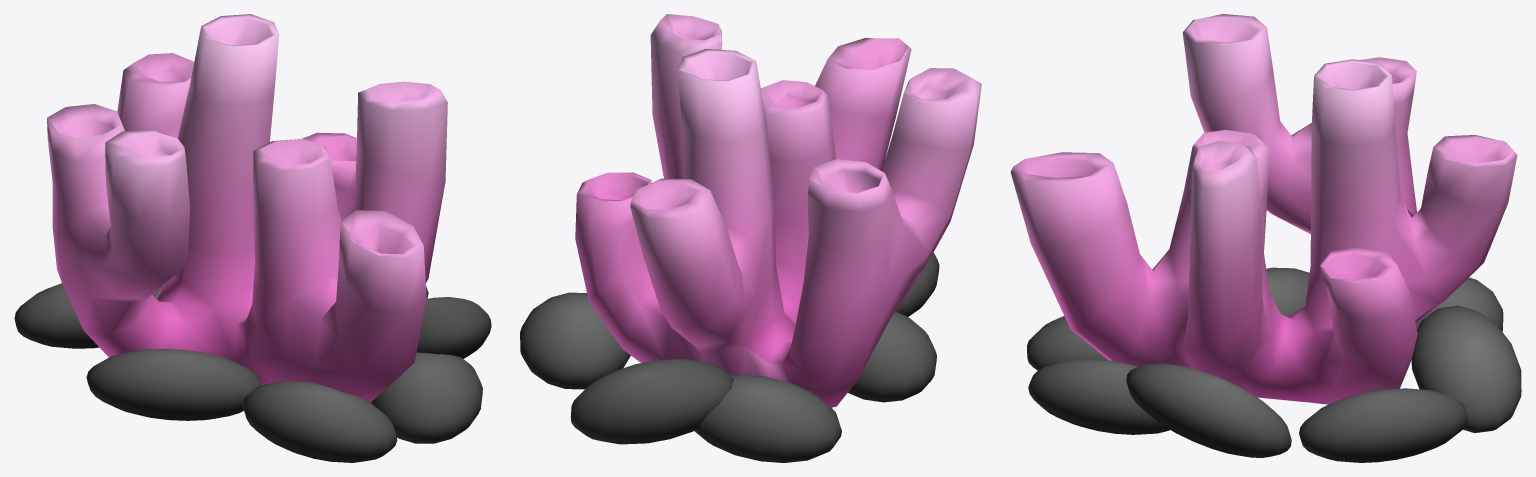
The model's file is Coral1.fbx.
3 renders of one model, left to right at view 1: azimuth 30°, elevation 25°; view 2: azimuth 150°, elevation 25°; view 3: azimuth 270°, elevation 25°, orthographic.
Visible parts, largest first — view 1: Coral, Piedras de coral; view 2: Coral, Piedras de coral; view 3: Coral, Piedras de coral.
Part boxes in pixels (box(x1,y1,x2,y2)): Coral: box(47, 14, 447, 402); Piedras de coral: box(14, 283, 491, 462); Coral: box(575, 14, 981, 407); Piedras de coral: box(520, 252, 939, 462); Coral: box(1010, 14, 1517, 404); Piedras de coral: box(1027, 267, 1521, 462).
Bounding box in the file's own units: 930 × 794 × 1121.
2 materials, 2 textured.
